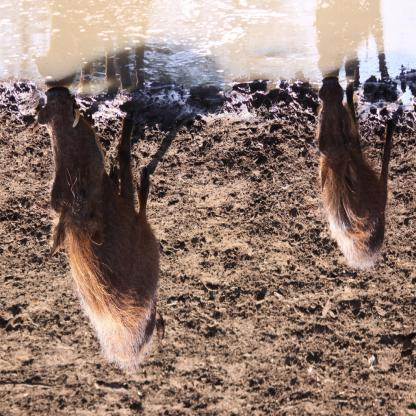boar: (37, 85, 162, 376), (317, 76, 399, 271)
